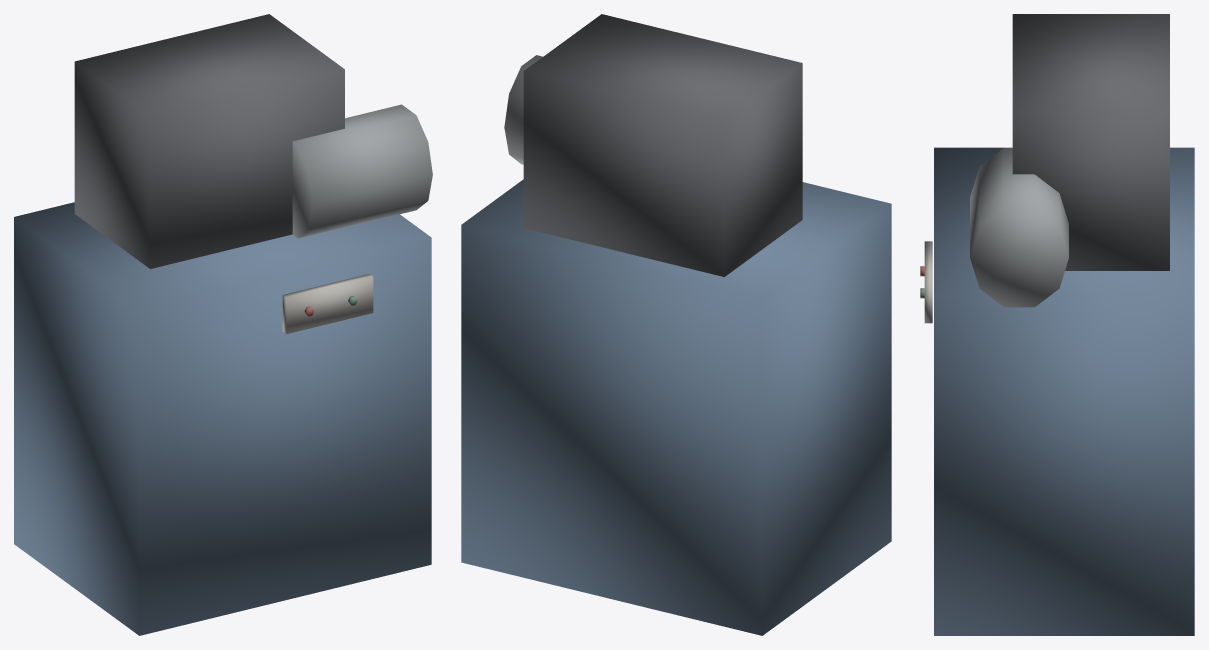
File: library_cart__tall.glb
The picture shows the model from 3 angles, left to right: view 1: azimuth 30°, elevation 25°; view 2: azimuth 150°, elevation 25°; view 3: azimuth 270°, elevation 25°; orthographic projection. The views are drawn at different scales.
Parts seen in each view (by area): view 1: world; view 2: world; view 3: world.
Part boxes in pixels (x1=…): world: x1=14, y1=14, x2=432, y2=635; world: x1=461, y1=14, x2=891, y2=635; world: x1=920, y1=14, x2=1194, y2=635.
Size of the model in its own units: 0.83 by 1.22 by 0.611.
